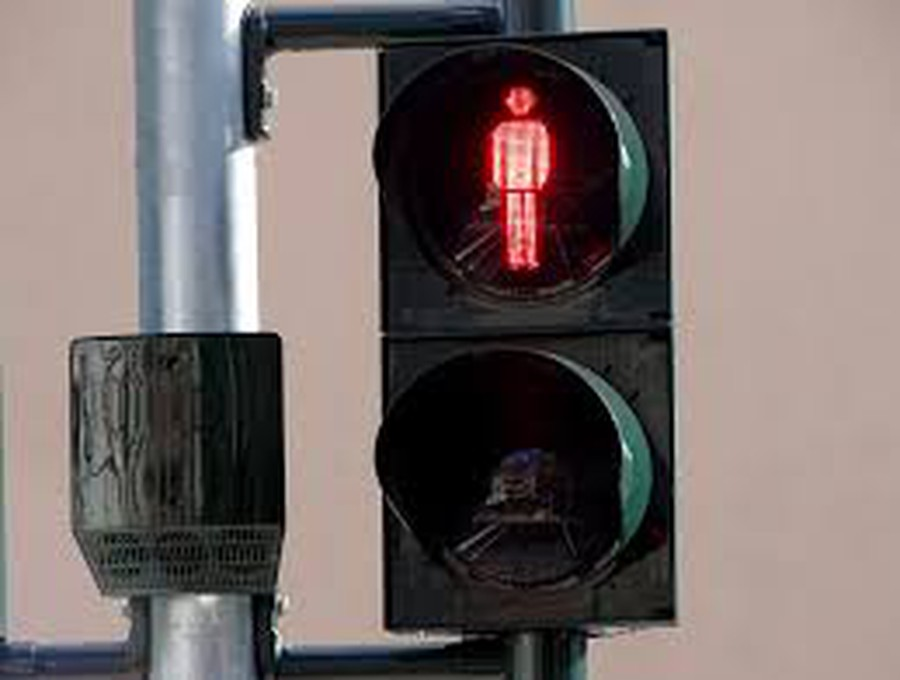Traffic Light-red: (377, 51, 684, 625)
